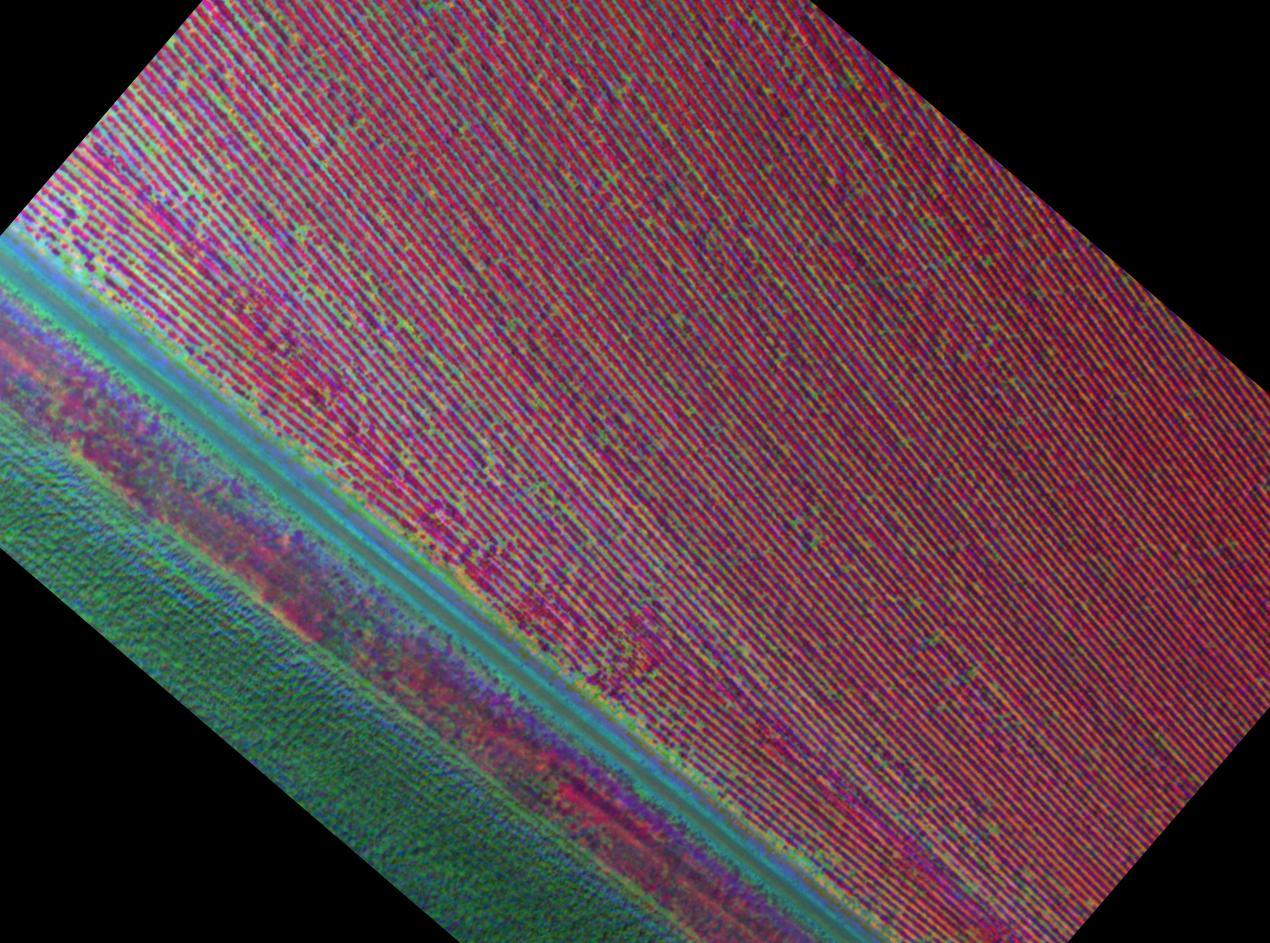dc: (79, 206, 85, 213), (299, 227, 306, 233), (400, 320, 405, 327), (459, 503, 464, 509), (434, 5, 441, 9)
